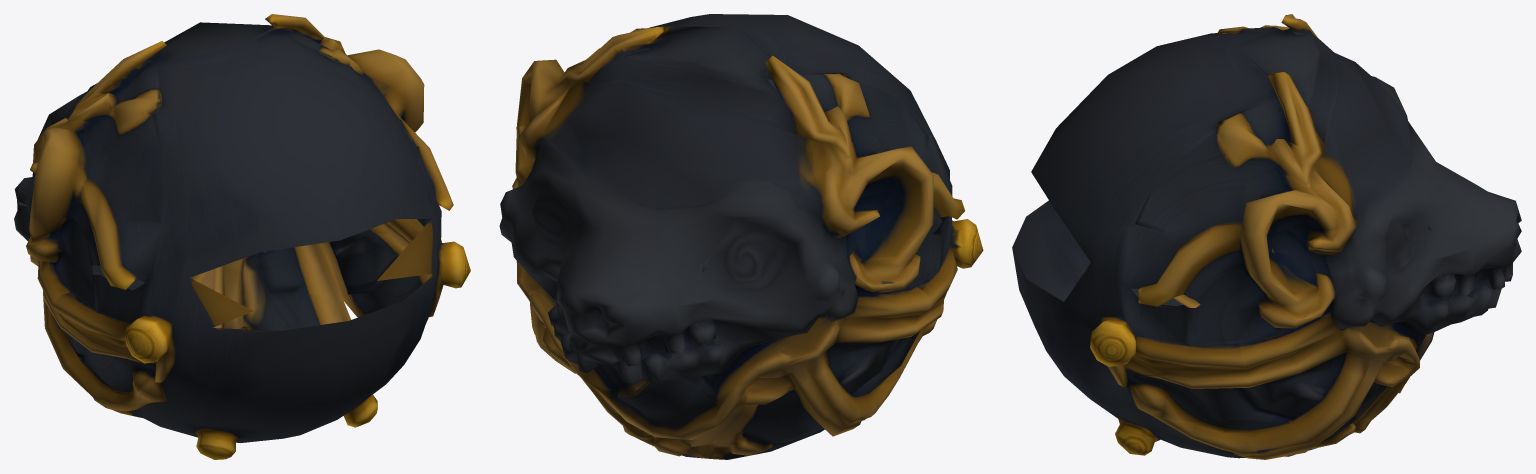
The model's file is ratbone_charm.glb.
The picture shows the model from 3 angles, left to right: view 1: azimuth 30°, elevation 25°; view 2: azimuth 150°, elevation 25°; view 3: azimuth 270°, elevation 25°; orthographic projection. The views are drawn at different scales.
Visible parts, largest first — view 1: base_model_path; view 2: base_model_path; view 3: base_model_path.
Boxes of the visible parts, x1=… form: base_model_path: x1=14, y1=14, x2=470, y2=459; base_model_path: x1=499, y1=14, x2=983, y2=459; base_model_path: x1=1012, y1=14, x2=1521, y2=459.
Size of the model in its own units: 0.9138 by 0.8551 by 0.9999.
1 material, 1 textured.
